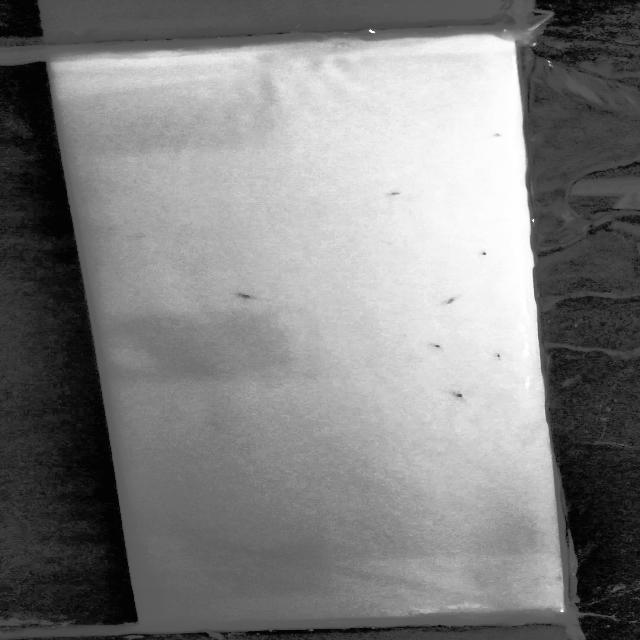shrimp: (235, 290, 269, 302), (485, 126, 509, 139), (441, 293, 465, 306), (382, 187, 407, 197), (452, 388, 468, 402), (477, 249, 496, 260), (488, 352, 507, 362), (429, 340, 446, 350)
